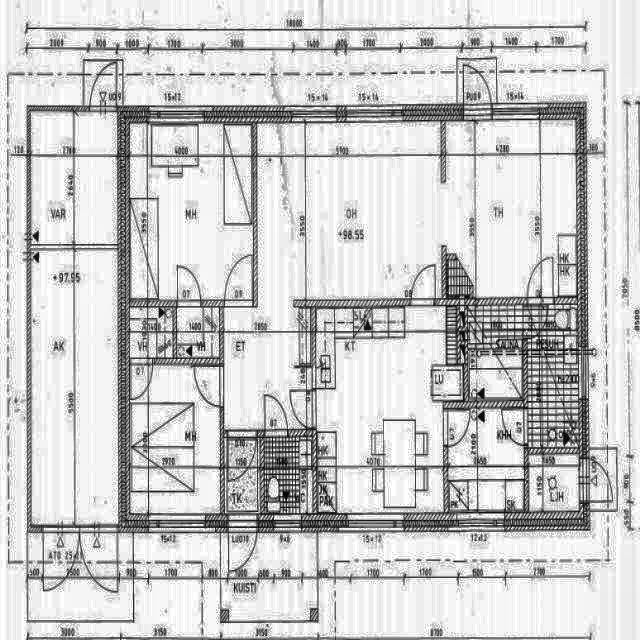room: (127, 121, 253, 301), (128, 364, 221, 514), (449, 409, 524, 511), (526, 304, 579, 448), (469, 305, 523, 401), (264, 437, 312, 513), (528, 456, 579, 511), (176, 307, 219, 358), (130, 308, 173, 357)
